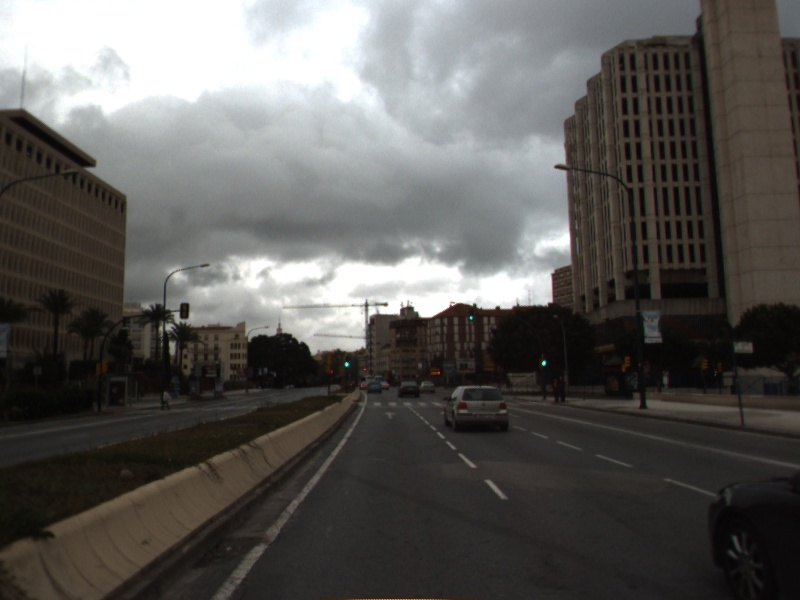STRAIGHT: (381, 409, 400, 421)
